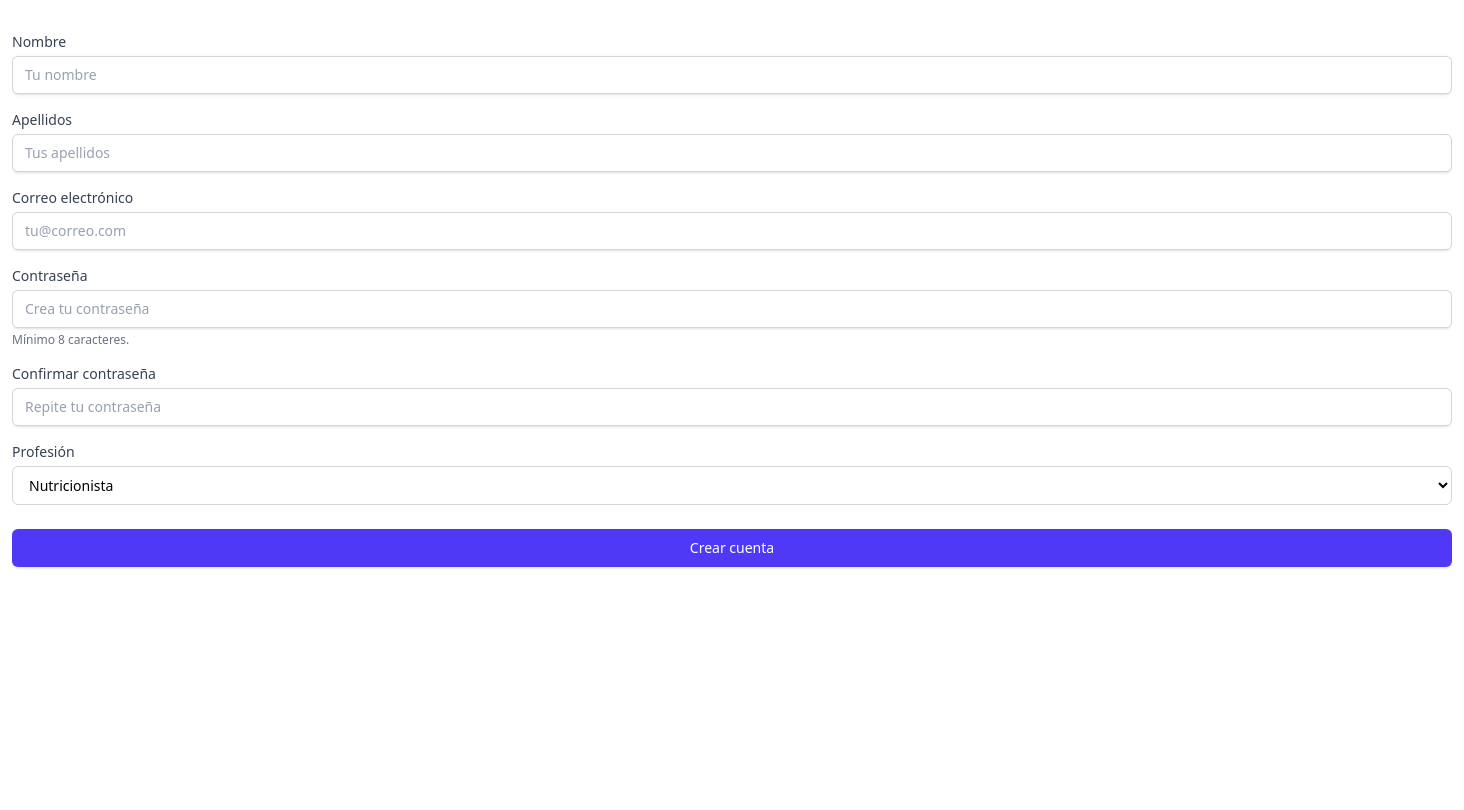
Test case: RegisterForm component › handles 400 bad request error (backend validation)
Rellenar y enviar formulario
Type "Test" into the field labelled "Nombre" at (732, 75), box [12,56,1452,94]
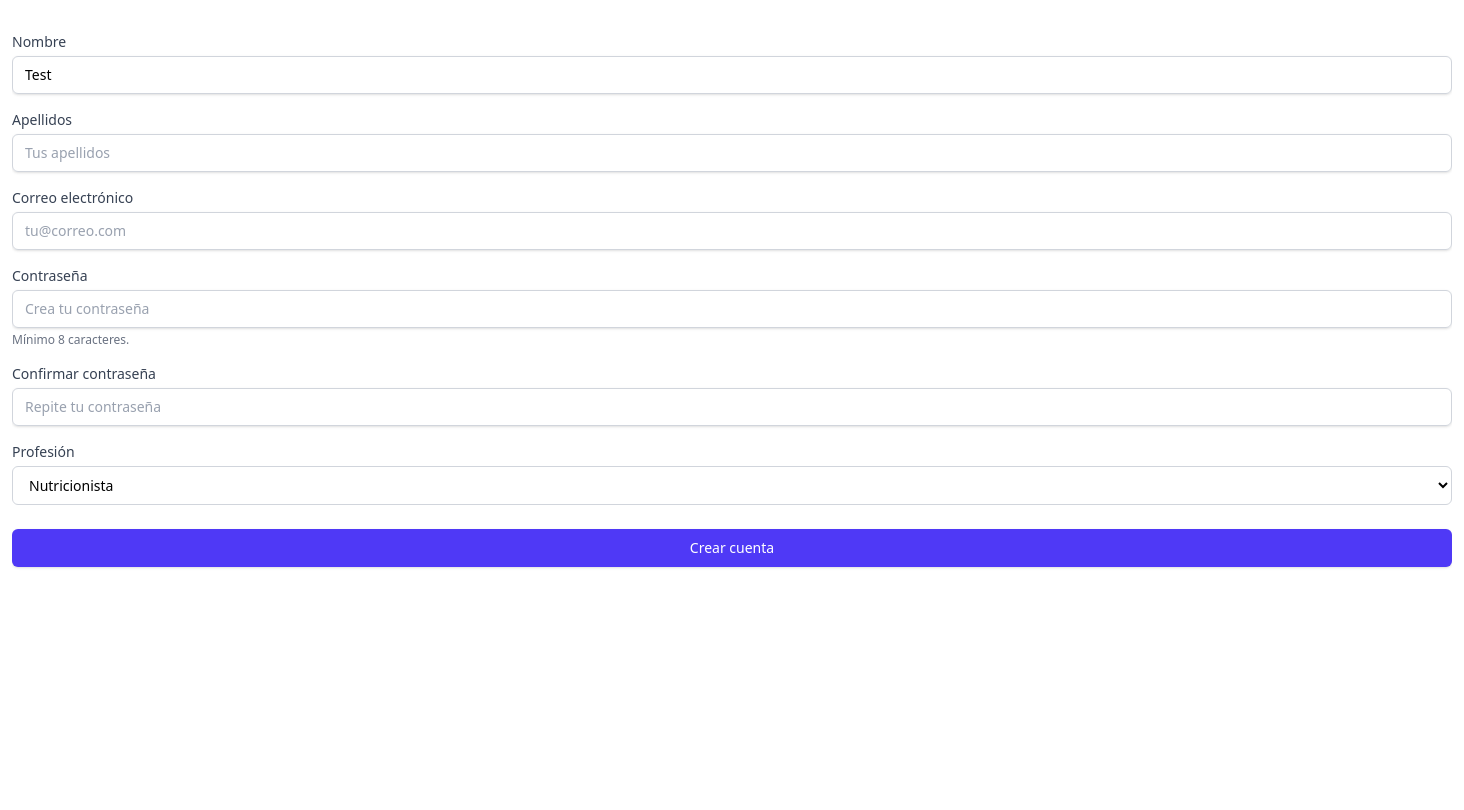
Type "User" into the field labelled "Apellidos" at (732, 153), box [12,134,1452,172]
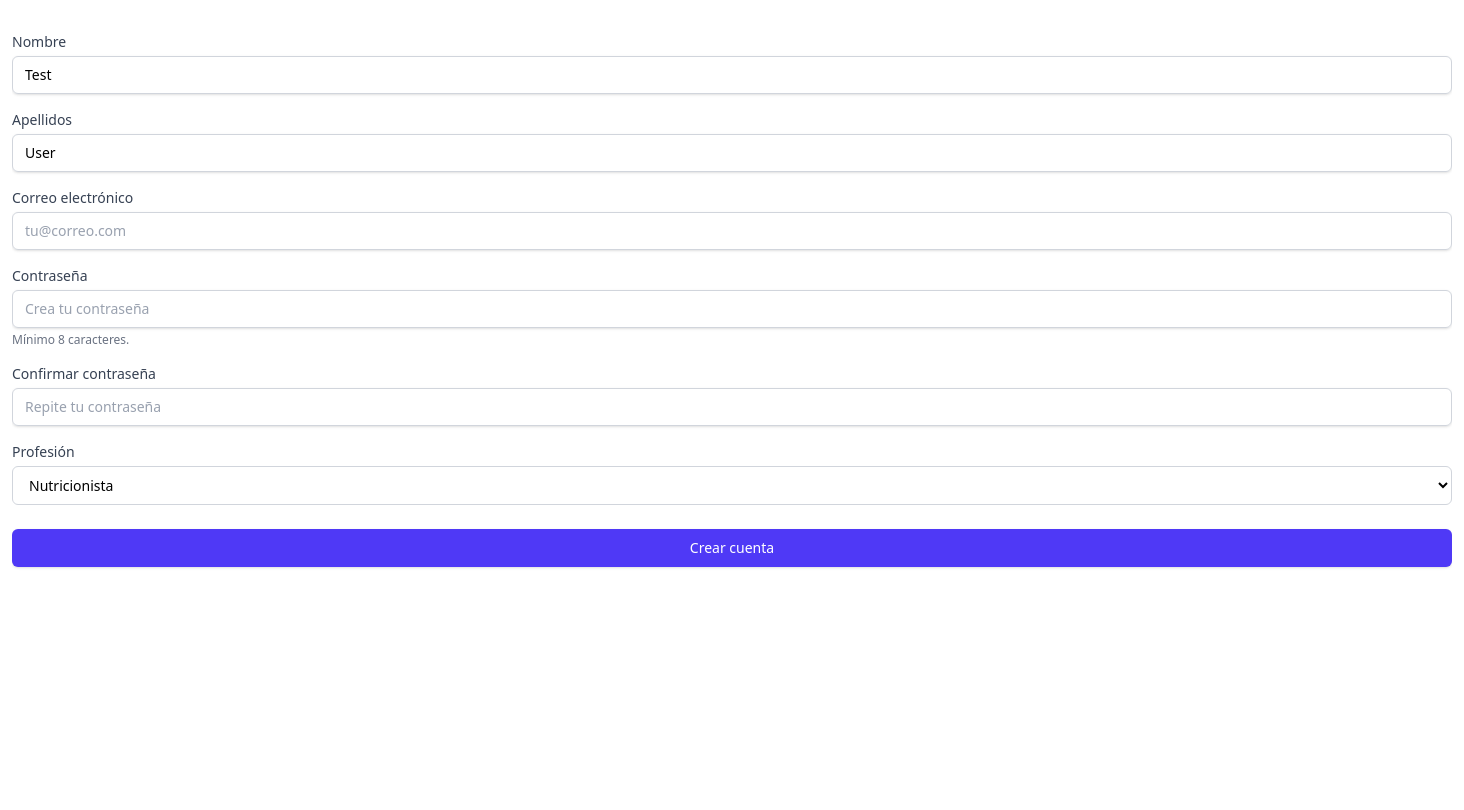
Type "test@example.com" into the field labelled "Correo electrónico" at (732, 231), box [12,212,1452,250]
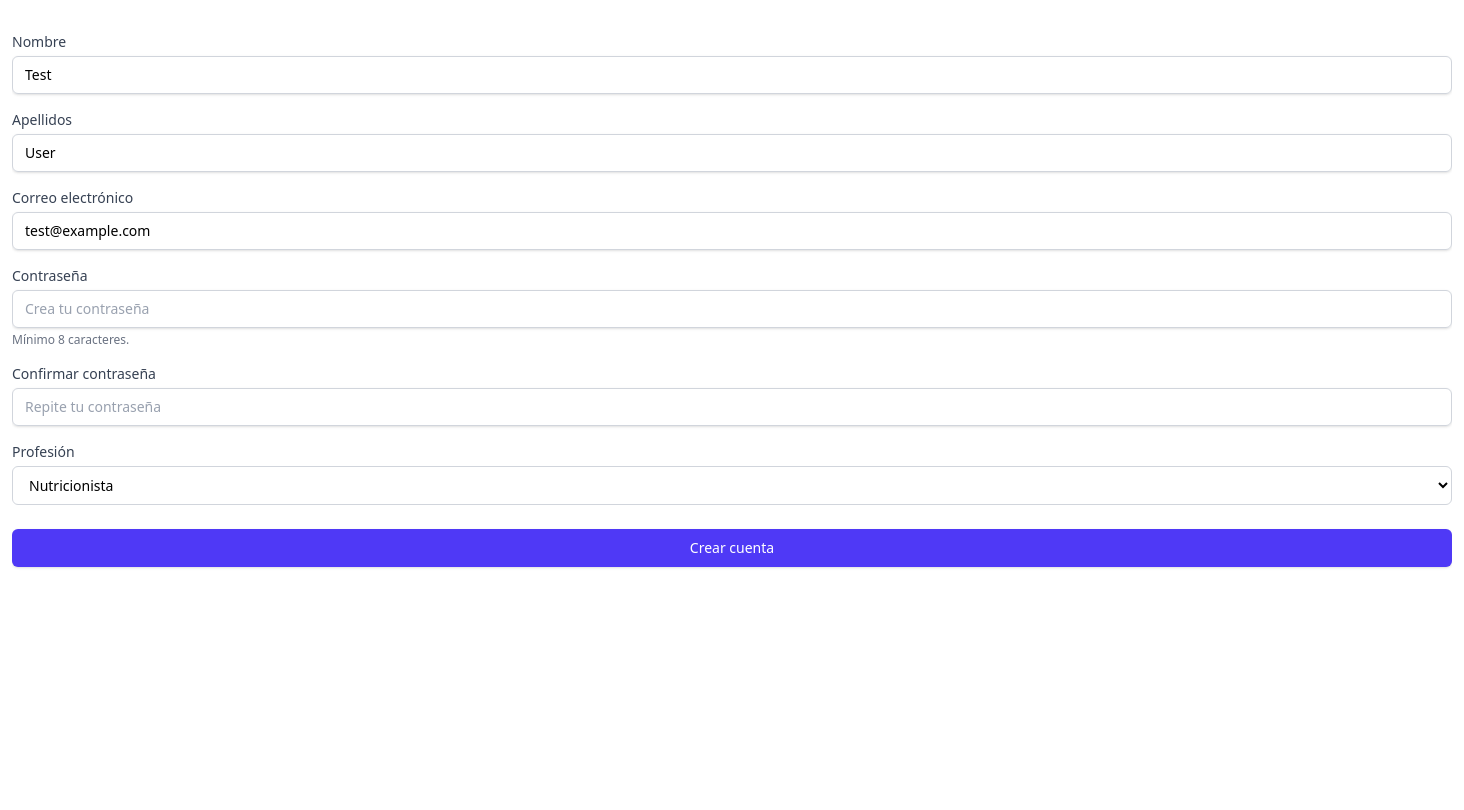
Type "password123" into the password field labelled "Contraseña" at (732, 309), box [12,290,1452,328]
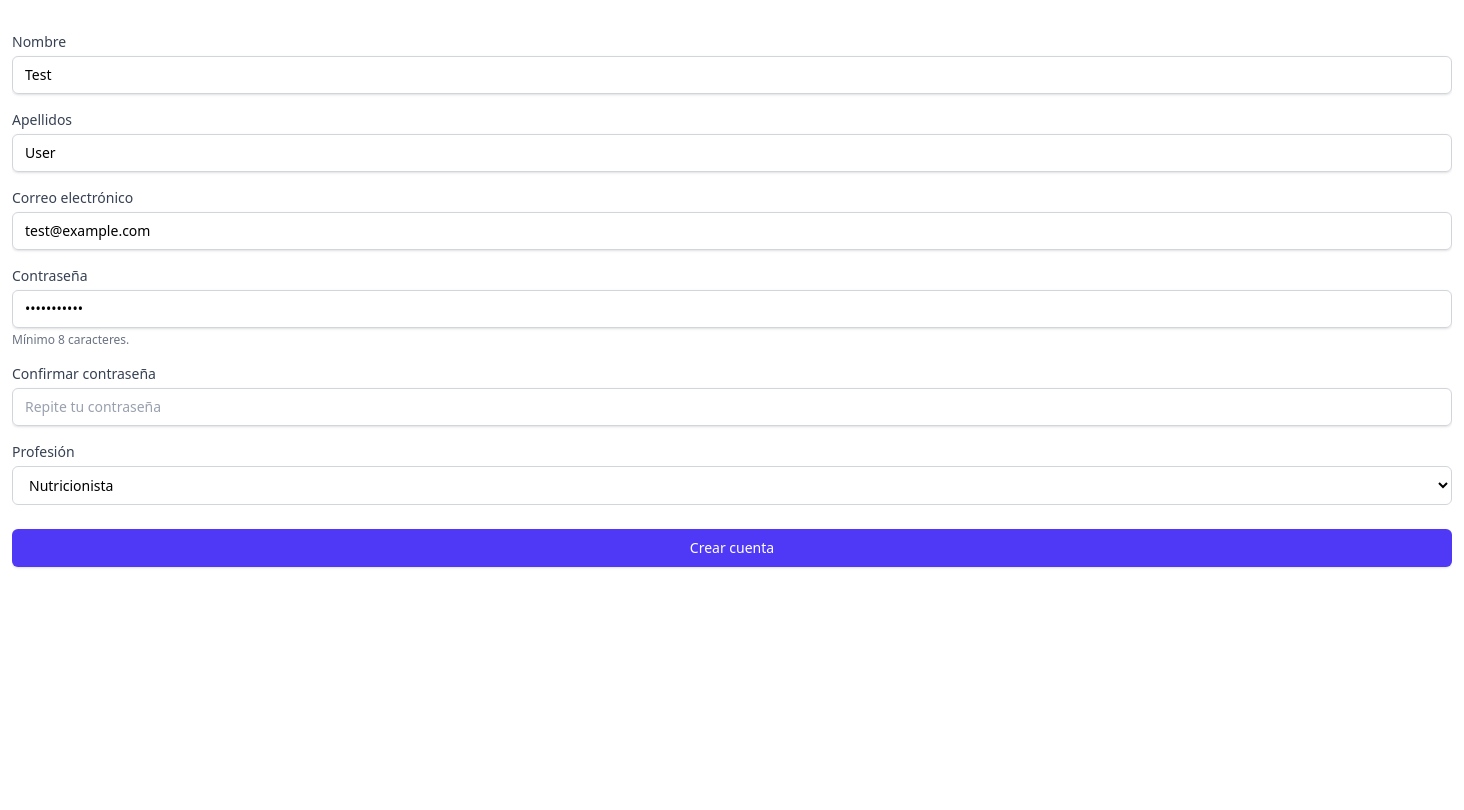
Type "password123" into the password field labelled "Confirmar contraseña" at (732, 407), box [12,388,1452,426]
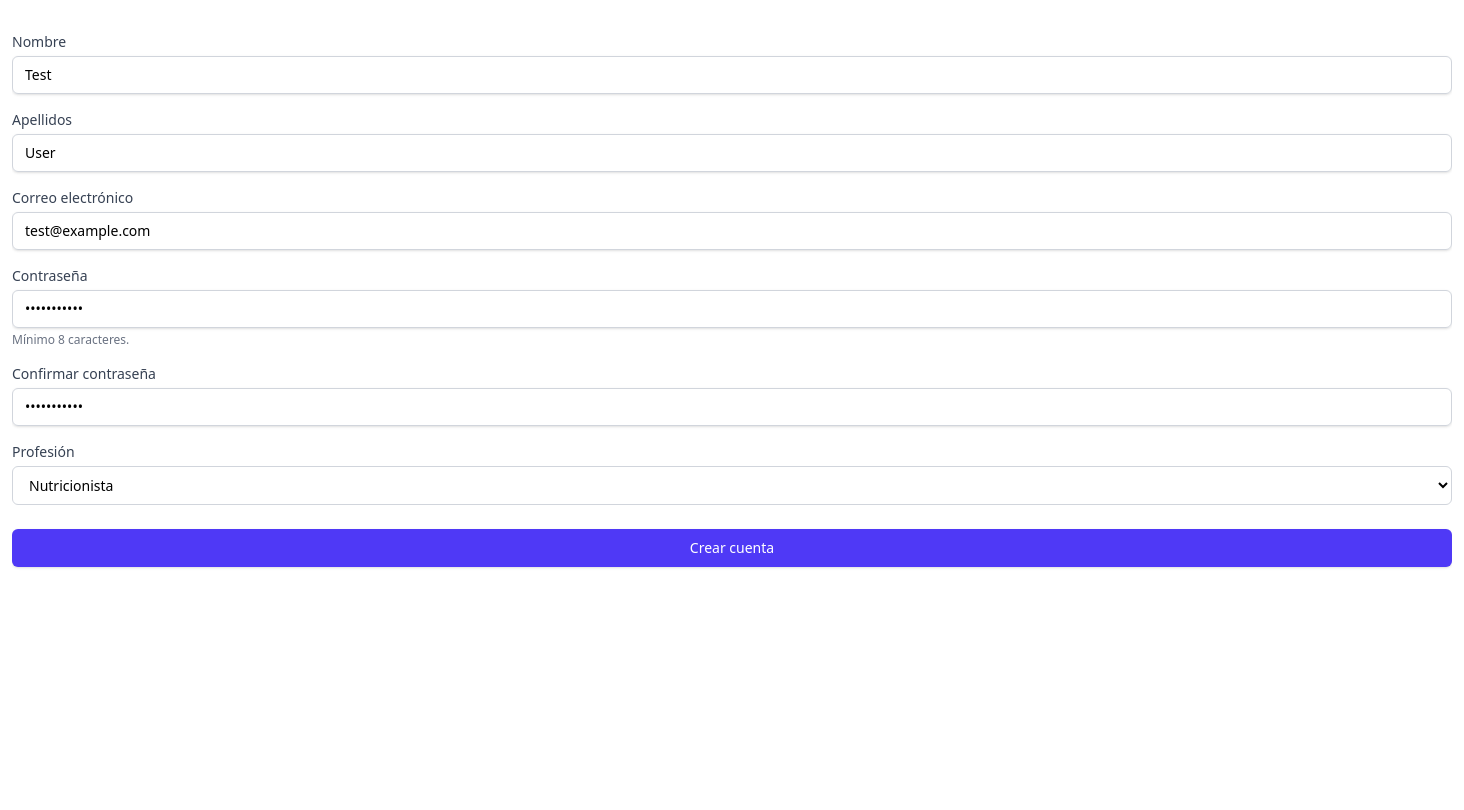
Select "Nutricionista" in the dropdown labelled "Profesión" at (732, 486), box [12,466,1452,505]
Click the button "Crear cuenta" at (732, 548), box [12,529,1452,567]
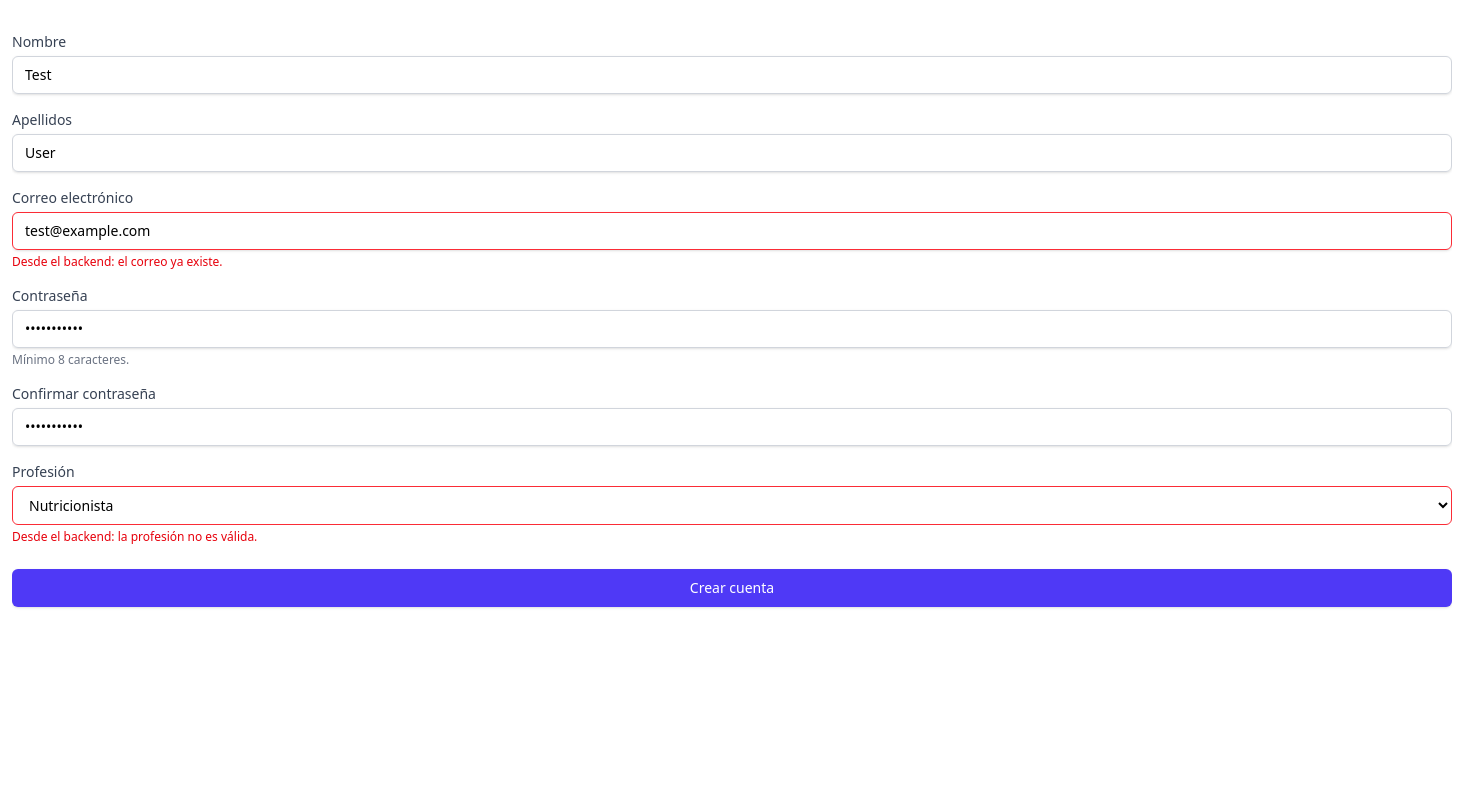
expect the text "Desde el backend: el correo ya existe." is shown: met, box [12,253,222,270]
expect the text "Desde el backend: la profesión no es válida." is shown: met, box [12,528,257,545]
